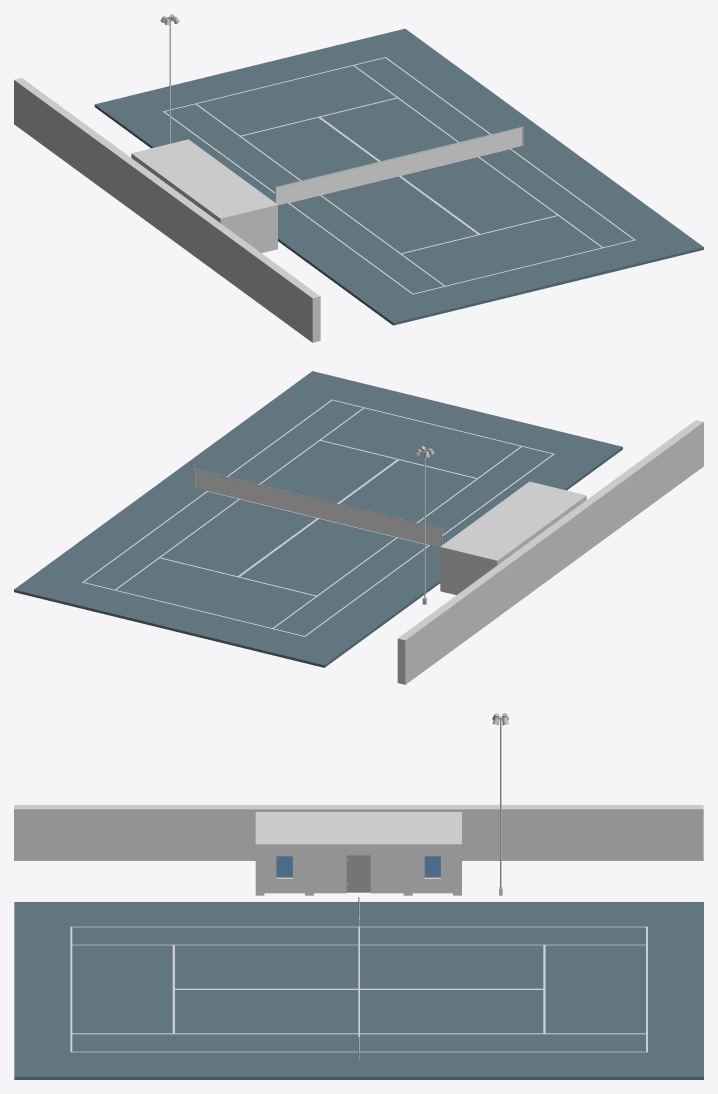
File: tennis_court_A.fbx
3 views of the same model, one above another, from view 1: azimuth 30°, elevation 25°; view 2: azimuth 150°, elevation 25°; view 3: azimuth 270°, elevation 25° (orthographic). The views are drawn at different scales.
Visible parts, largest first — view 1: tennis_court_A_ground, tennis_cabin_A_wall, tennis_cabin_A_room, tennis_court_A_net; view 2: tennis_court_A_ground, tennis_cabin_A_wall, tennis_cabin_A_room, tennis_court_A_net; view 3: tennis_court_A_ground, tennis_cabin_A_wall, tennis_cabin_A_room, tennis_cabin_door.
Boxes of the visible parts, <box> form: tennis_court_A_ground: <box>94,28,703,325</box>; tennis_cabin_A_wall: <box>14,78,320,342</box>; tennis_cabin_A_room: <box>131,139,277,253</box>; tennis_court_A_net: <box>275,126,524,205</box>; tennis_court_A_ground: <box>14,371,622,667</box>; tennis_cabin_A_wall: <box>397,420,703,684</box>; tennis_cabin_A_room: <box>440,481,586,595</box>; tennis_court_A_net: <box>194,468,442,547</box>; tennis_court_A_ground: <box>14,902,703,1079</box>; tennis_cabin_A_wall: <box>14,805,703,860</box>; tennis_cabin_A_room: <box>255,812,461,895</box>; tennis_cabin_door: <box>346,855,370,892</box>.
Bounding box in the file's own units: 2430 × 939 × 3213.
